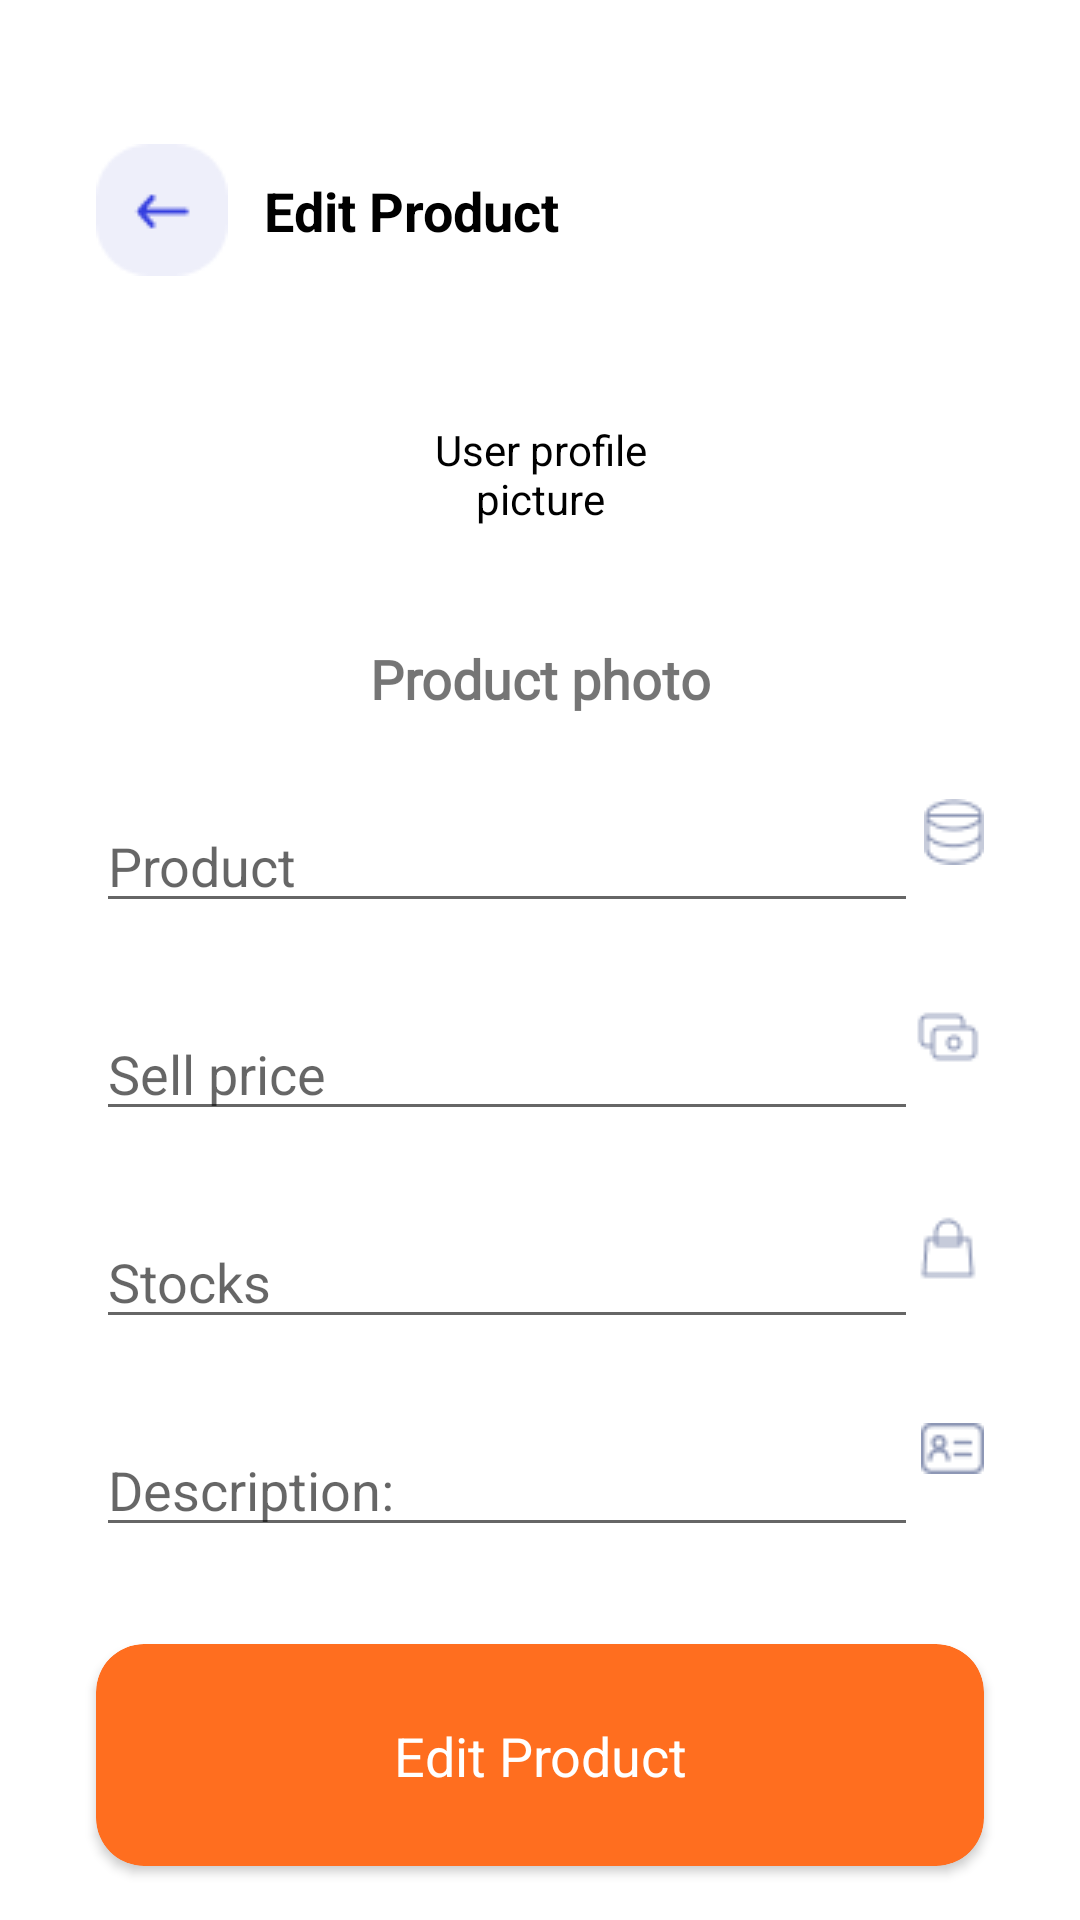

Named icons in this screenshot (1080x1920) and their bounding boxes, (x1, y1, x2, y2):
infocard: (921, 1423, 984, 1474)
